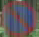No parking: (1, 0, 36, 35)
